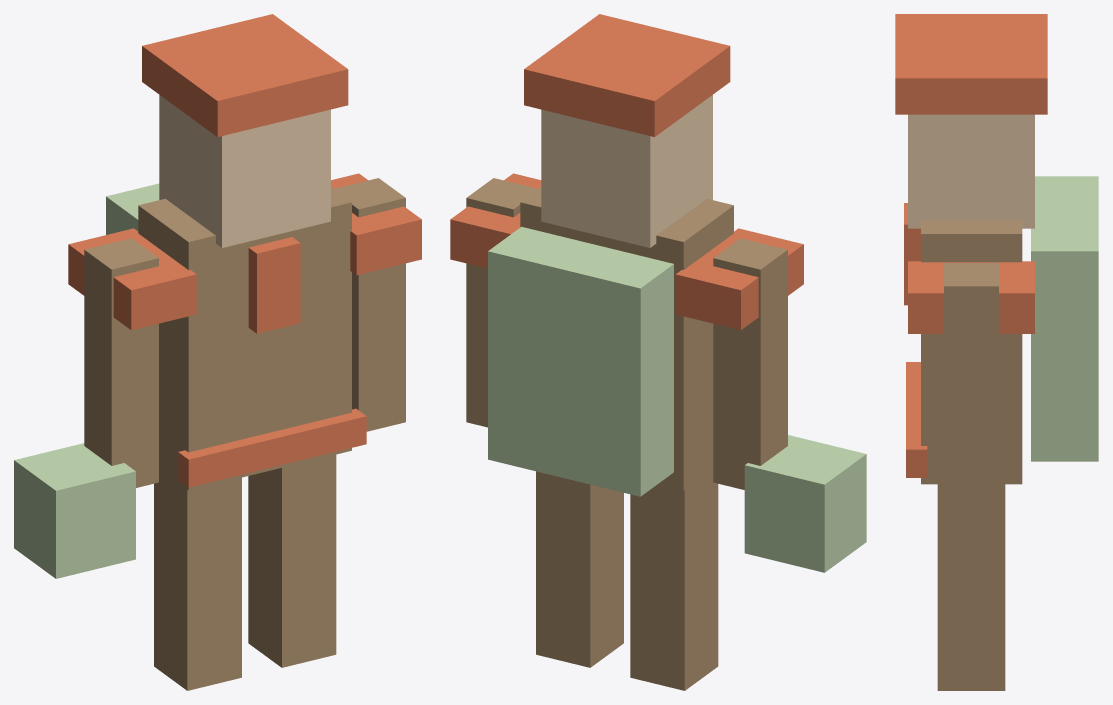
Rendered from 13_noor_emberkin_runner_under_sculpture.glb.
3 views of the same model, side by side, from view 1: azimuth 30°, elevation 25°; view 2: azimuth 150°, elevation 25°; view 3: azimuth 270°, elevation 25° (orthographic).
Parts seen in each view (by area): view 1: Noor Emberkin, Runner under Sculpture; view 2: Noor Emberkin, Runner under Sculpture; view 3: Noor Emberkin, Runner under Sculpture.
Boxes of the visible parts, x1,y1,x2,y2 form: Noor Emberkin, Runner under Sculpture: [14, 14, 421, 690]; Noor Emberkin, Runner under Sculpture: [450, 14, 866, 690]; Noor Emberkin, Runner under Sculpture: [895, 14, 1098, 690].
Size of the model in its own units: 0.983 by 1.57 by 0.4742.
